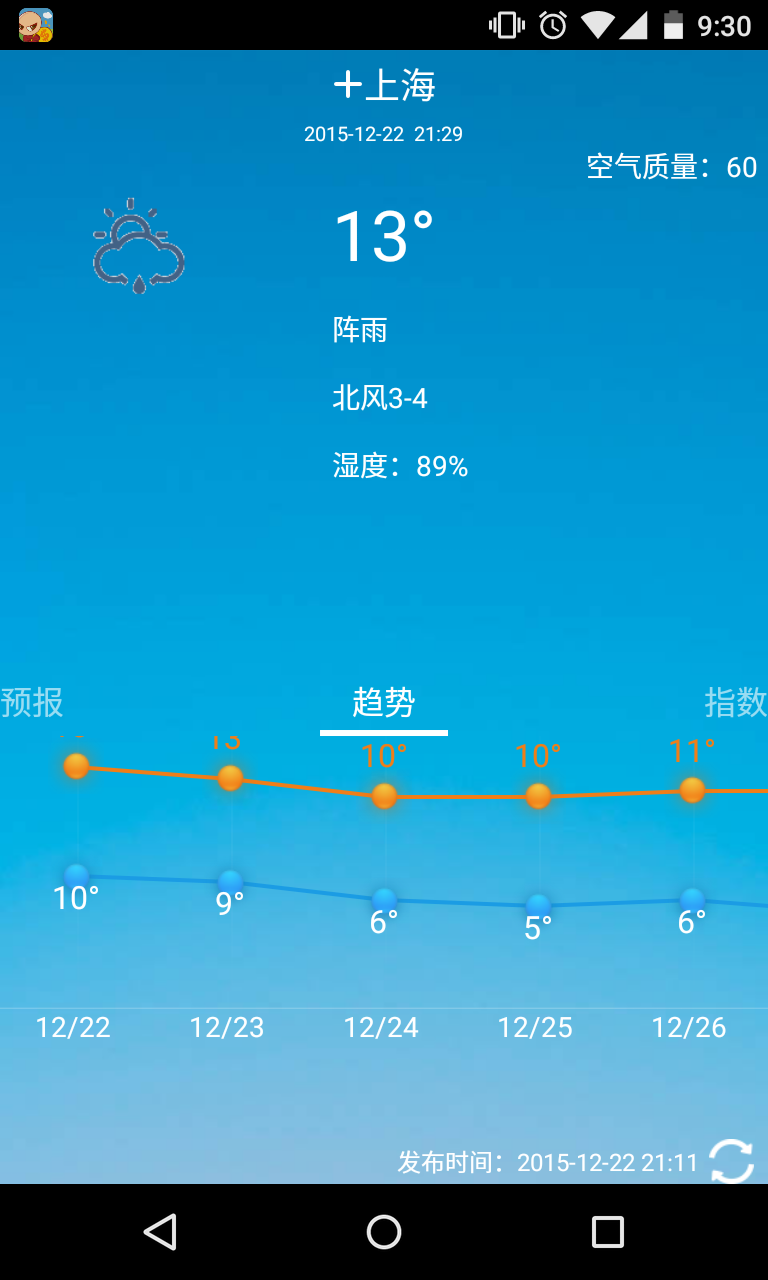textview: (305, 180, 482, 514)
